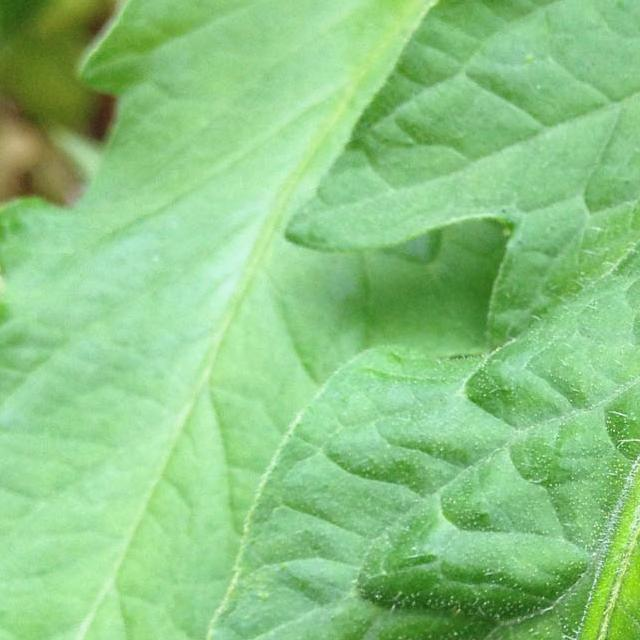Tomato leaf late blight: (232, 0, 640, 640)
